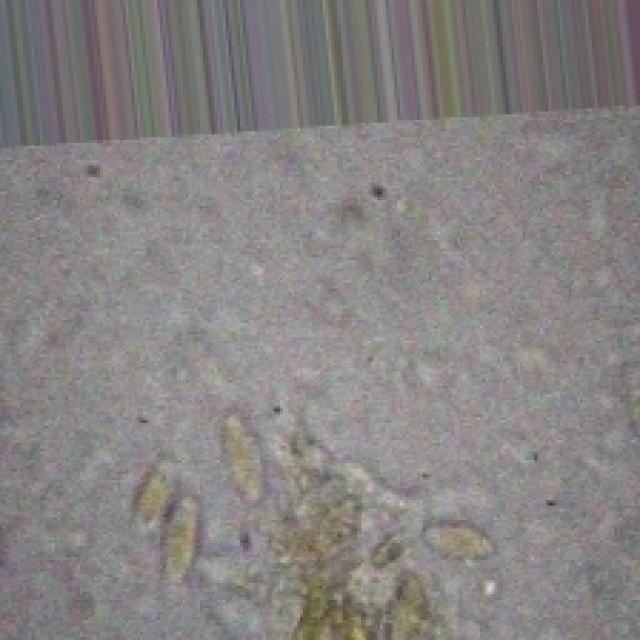Amoeba: (103, 360, 541, 640)
